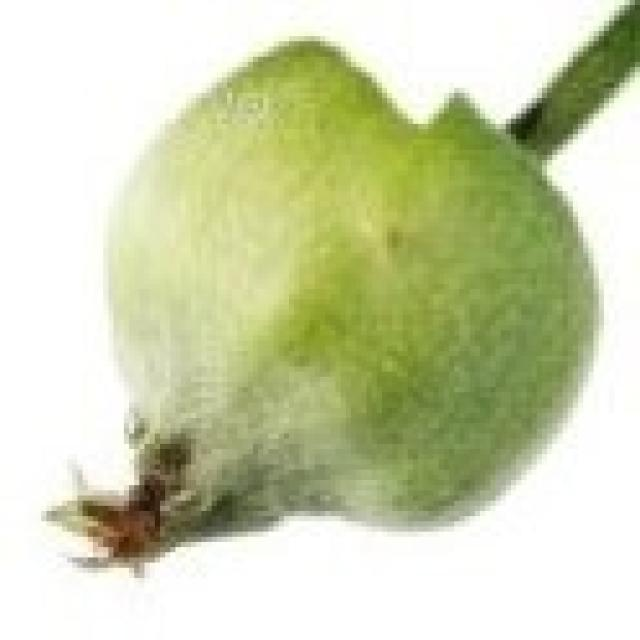20-_ripeness: (78, 39, 611, 579)
